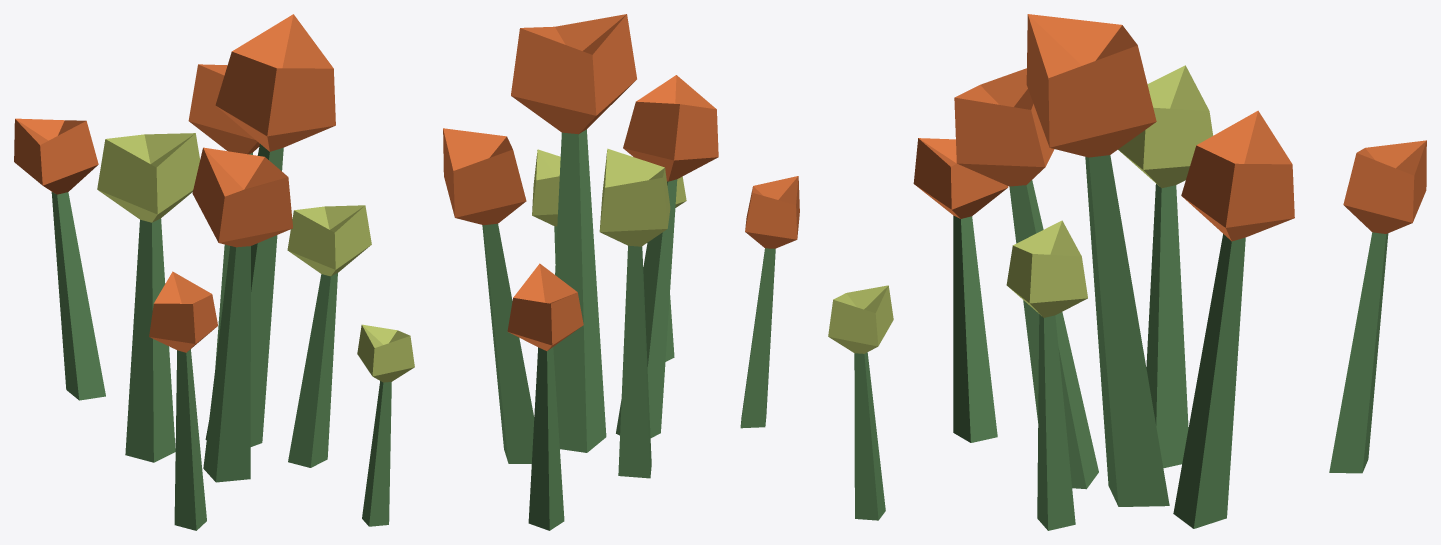
File: flower1.fbx
3 views of the same model, side by side, from view 1: azimuth 30°, elevation 25°; view 2: azimuth 150°, elevation 25°; view 3: azimuth 270°, elevation 25° (orthographic). The views are drawn at different scales.
Visible parts, largest first — view 1: flower1; view 2: flower1; view 3: flower1.
Part boxes in pixels (x1,y1,x2,y2): flower1: [14, 14, 414, 530]; flower1: [443, 14, 799, 530]; flower1: [828, 14, 1426, 530].
Size of the model in its own units: 19.74 by 30.59 by 34.01.
